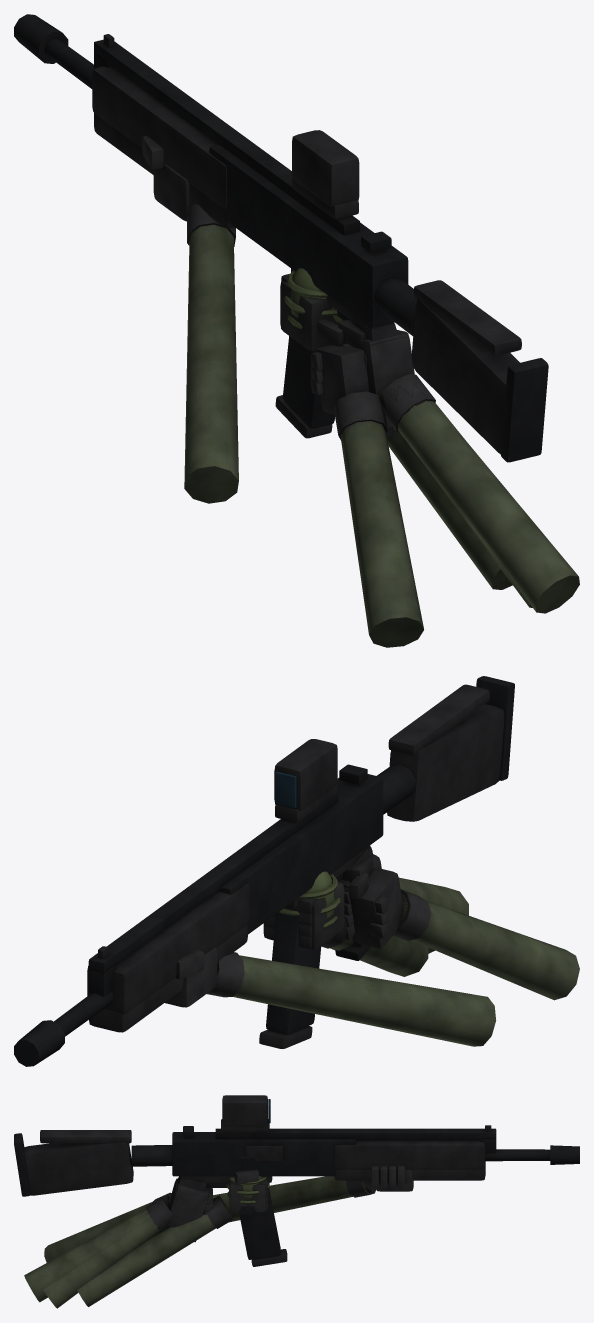
The model's file is armas.glb.
The picture shows the model from 3 angles, top to bottom: view 1: azimuth 30°, elevation 25°; view 2: azimuth 150°, elevation 25°; view 3: azimuth 270°, elevation 25°; orthographic projection. The views are drawn at different scales.
Visible parts, largest first — view 1: fuzil, maos_fuzil, maos_pistola, maos_granada, granada, pistola; view 2: fuzil, maos_fuzil, maos_pistola, maos_granada, granada, pistola; view 3: fuzil, maos_fuzil, maos_granada, maos_pistola, granada, pistola.
Boxes of the visible parts, <box> form: fuzil: <box>14,14,548,462</box>; maos_fuzil: <box>142,136,579,613</box>; maos_pistola: <box>310,319,532,647</box>; maos_granada: <box>280,274,512,589</box>; granada: <box>284,268,342,328</box>; pistola: <box>291,268,396,437</box>; fuzil: <box>14,676,514,1066</box>; maos_fuzil: <box>165,854,496,1046</box>; maos_pistola: <box>344,856,579,1000</box>; maos_granada: <box>263,882,428,976</box>; granada: <box>279,871,340,928</box>; pistola: <box>287,845,372,960</box>; fuzil: <box>14,1095,579,1266</box>; maos_fuzil: <box>24,1166,413,1302</box>; maos_granada: <box>77,1169,267,1306</box>; maos_pistola: <box>42,1178,211,1308</box>; granada: <box>226,1155,269,1214</box>; pistola: <box>178,1176,272,1242</box>.
Size of the model in its own units: 0.2935 by 0.4097 by 1.05.
6 materials, 6 textured.
